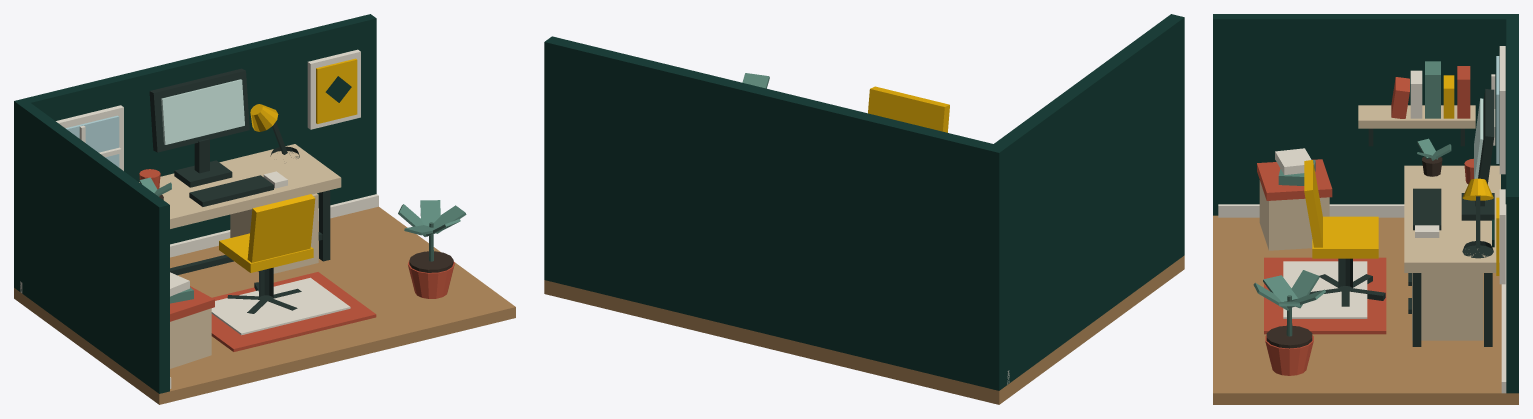
File: workspace-diorama.obj
3 views of the same model, side by side, from view 1: azimuth 30°, elevation 25°; view 2: azimuth 150°, elevation 25°; view 3: azimuth 270°, elevation 25° (orthographic). The views are drawn at different scales.
Parts seen in each view (by area): view 1: WallLeft, WallBack, Floor, DeskTop, RugInner, MonitorScreen, Rug, ChairBack, MonitorShell, PosterArt, Crate, Skirting (+14 smaller); view 2: WallBack, WallLeft, Floor, ChairBack; view 3: WallLeft, Floor, DeskTop, WallBack, Drawer, Rug, RugInner, Crate, ChairSeat, Skirting, Shelf, CrateLid (+27 smaller).
Part boxes in pixels (x1,y1,x2,y2): WallLeft: (20, 103, 169, 393); WallBack: (14, 14, 376, 291); Floor: (14, 206, 515, 404); DeskTop: (139, 144, 341, 228); RugInner: (211, 277, 350, 335); MonitorScreen: (161, 79, 244, 144); Rug: (211, 272, 376, 351); ChairBack: (247, 194, 315, 262); MonitorShell: (149, 68, 249, 152); PosterArt: (316, 58, 357, 123); Crate: (170, 308, 211, 368); Skirting: (20, 194, 378, 388); WallBack: (544, 36, 1006, 390); WallLeft: (994, 14, 1184, 384); Floor: (544, 255, 1184, 404); ChairBack: (868, 86, 949, 132); WallLeft: (1213, 14, 1506, 215); Floor: (1213, 215, 1518, 404); DeskTop: (1404, 165, 1500, 272); WallBack: (1506, 14, 1518, 393); Drawer: (1412, 273, 1483, 340); Rug: (1264, 257, 1386, 334); RugInner: (1283, 261, 1367, 318); Crate: (1259, 180, 1329, 250); ChairSeat: (1312, 216, 1378, 258); Skirting: (1218, 204, 1506, 393); Shelf: (1358, 105, 1475, 128); CrateLid: (1257, 159, 1332, 200).
Bounding box in the file's own units: 0.17 × 0.09 × 0.12.
